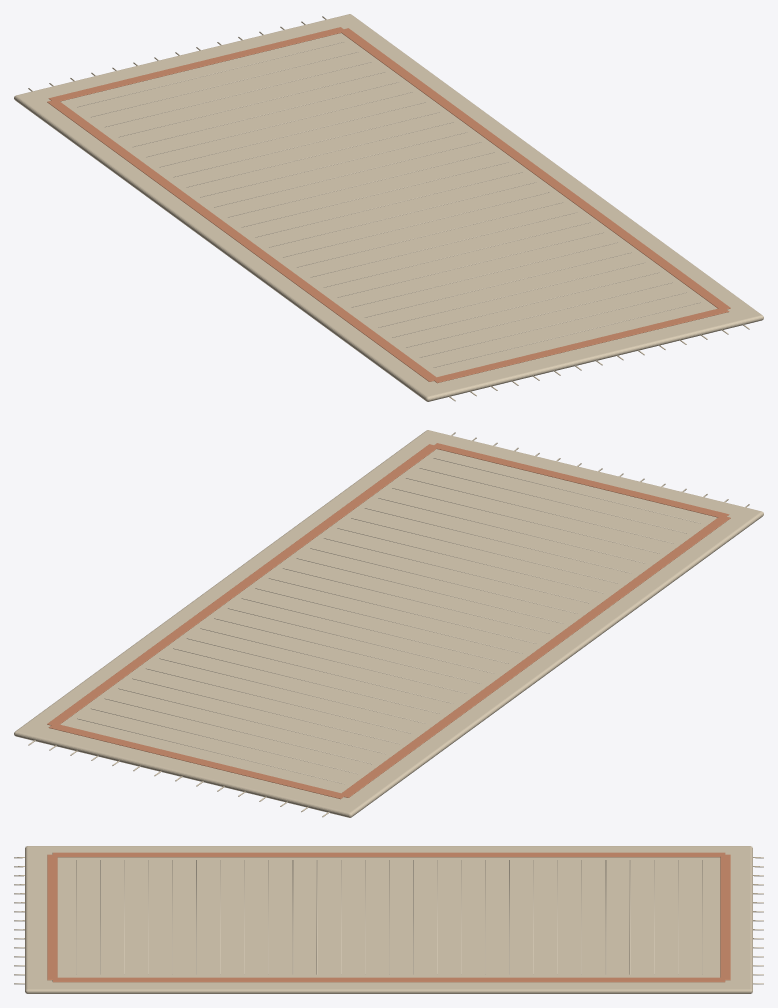
File: Runner_Rug.glb
The picture shows the model from 3 angles, top to bottom: view 1: azimuth 30°, elevation 25°; view 2: azimuth 150°, elevation 25°; view 3: azimuth 270°, elevation 25°; orthographic projection. The views are drawn at different scales.
Parts seen in each view (by area): view 1: Runner_Rug_Mesh; view 2: Runner_Rug_Mesh; view 3: Runner_Rug_Mesh.
Part boxes in pixels (x1,y1,x2,y2): Runner_Rug_Mesh: (14, 14, 763, 401); Runner_Rug_Mesh: (14, 430, 763, 817); Runner_Rug_Mesh: (14, 846, 763, 993).
Bounding box in the file's own units: 1.24 × 0.0203 × 2.71.
